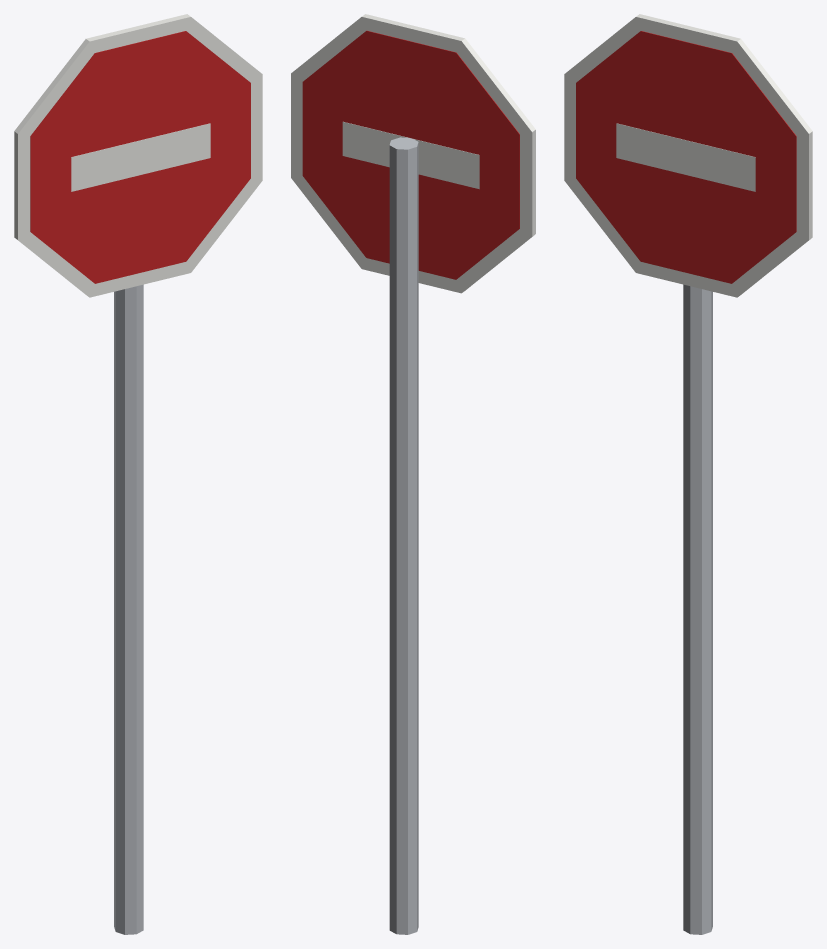
Rendered from Sign_Stop_Blank.glb.
The picture shows the model from 3 angles, left to right: view 1: azimuth 30°, elevation 25°; view 2: azimuth 150°, elevation 25°; view 3: azimuth 330°, elevation 25°; orthographic projection.
Visible parts, largest first — view 1: Sign_Stop_Blank; view 2: Sign_Stop_Blank; view 3: Sign_Stop_Blank.
Part boxes in pixels (x1,y1,x2,y2): Sign_Stop_Blank: (14,14,262,934); Sign_Stop_Blank: (291,14,535,934); Sign_Stop_Blank: (564,14,812,934).
Bounding box in the file's own units: 0.7391 × 2.62 × 0.103.
Materials: 1 (1 with a texture image).
